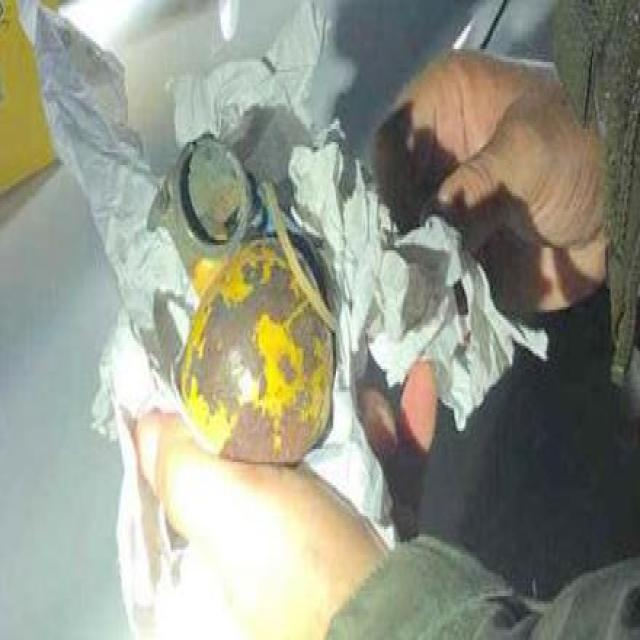grenade: (148, 128, 336, 467)
